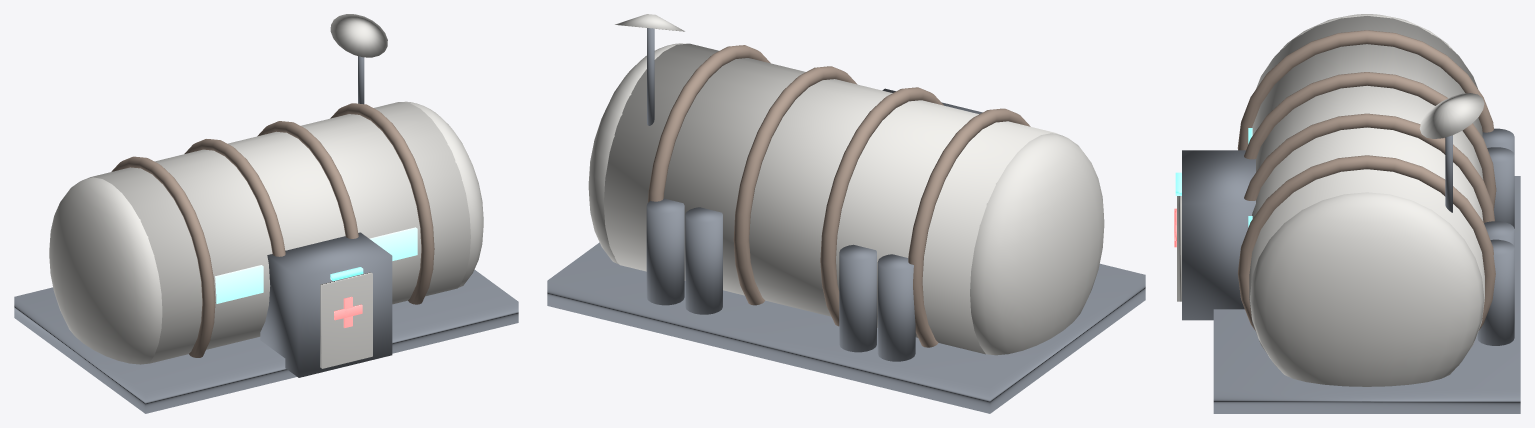
File: medbay_web.glb
3 views of the same model, side by side, from view 1: azimuth 30°, elevation 25°; view 2: azimuth 150°, elevation 25°; view 3: azimuth 270°, elevation 25° (orthographic). The views are drawn at different scales.
Visible parts, largest first — view 1: Med_PressurizedHull, Med_Plinth, Med_EndCapL, Med_Airlock, Med_Door, Med_RadRib_2.7, Med_RadRib_-2.7, Med_EndCapR, Med_RadRib_0.9, Med_RadRib_-0.9, Med_CommsDish, Med_Window_-1.9 (+1 smaller); view 2: Med_PressurizedHull, Med_Plinth, Med_EndCapL, Med_RadRib_0.9, Med_RadRib_-0.9, Med_RadRib_-2.7, Med_O2Tank_2.4, Med_O2Tank_-1.6, Med_O2Tank_1.6, Med_O2Tank_-2.4, Med_EndCapR, Med_RadRib_2.7 (+2 smaller); view 3: Med_EndCapR, Med_PressurizedHull, Med_Plinth, Med_Airlock, Med_RadRib_2.7, Med_RadRib_-2.7, Med_RadRib_-0.9, Med_RadRib_0.9, Med_O2Tank_2.4, Med_CommsDish, Med_O2Tank_-1.6, Med_CommsMast (+4 smaller).
Part boxes in pixels (<box>): Med_PressurizedHull: <box>86,102,470,363</box>; Med_Plinth: <box>14,269,518,413</box>; Med_EndCapL: <box>49,177,162,364</box>; Med_Airlock: <box>260,232,392,377</box>; Med_Door: <box>320,272,372,368</box>; Med_RadRib_2.7: <box>330,103,434,304</box>; Med_RadRib_-2.7: <box>111,156,215,357</box>; Med_EndCapR: <box>402,101,483,287</box>; Med_RadRib_0.9: <box>257,121,358,238</box>; Med_RadRib_-0.9: <box>184,139,285,256</box>; Med_CommsDish: <box>330,14,387,57</box>; Med_Window_-1.9: <box>215,265,263,303</box>; Med_PressurizedHull: <box>603,43,1059,354</box>; Med_Plinth: <box>547,242,1145,413</box>; Med_EndCapL: <box>970,133,1104,355</box>; Med_RadRib_0.9: <box>733,66,857,305</box>; Med_RadRib_-0.9: <box>820,87,943,326</box>; Med_RadRib_-2.7: <box>908,108,1030,347</box>; Med_O2Tank_2.4: <box>646,198,684,305</box>; Med_O2Tank_-1.6: <box>839,244,876,352</box>; Med_O2Tank_1.6: <box>685,207,722,314</box>; Med_O2Tank_-2.4: <box>877,254,915,361</box>; Med_EndCapR: <box>588,43,685,264</box>; Med_RadRib_2.7: <box>648,45,770,202</box>; Med_EndCapR: <box>1250,192,1484,386</box>; Med_PressurizedHull: <box>1249,16,1484,366</box>; Med_Plinth: <box>1213,176,1520,413</box>; Med_Airlock: <box>1182,150,1255,320</box>; Med_RadRib_2.7: <box>1237,155,1495,330</box>; Med_RadRib_-2.7: <box>1237,30,1493,150</box>; Med_RadRib_-0.9: <box>1244,72,1496,210</box>; Med_RadRib_0.9: <box>1244,113,1494,222</box>; Med_O2Tank_2.4: <box>1477,239,1514,345</box>; Med_CommsDish: <box>1419,93,1484,138</box>; Med_O2Tank_-1.6: <box>1487,147,1514,228</box>; Med_CommsMast: <box>1445,135,1452,212</box>.
Bounding box in the file's own units: 9.53 × 6.03 × 6.31.
